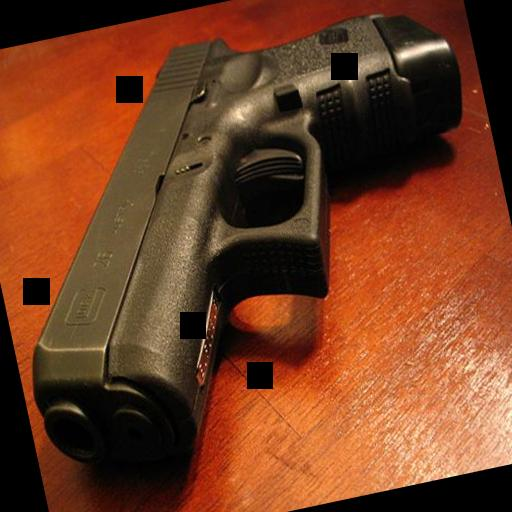Handgun: (0, 0, 512, 493)
